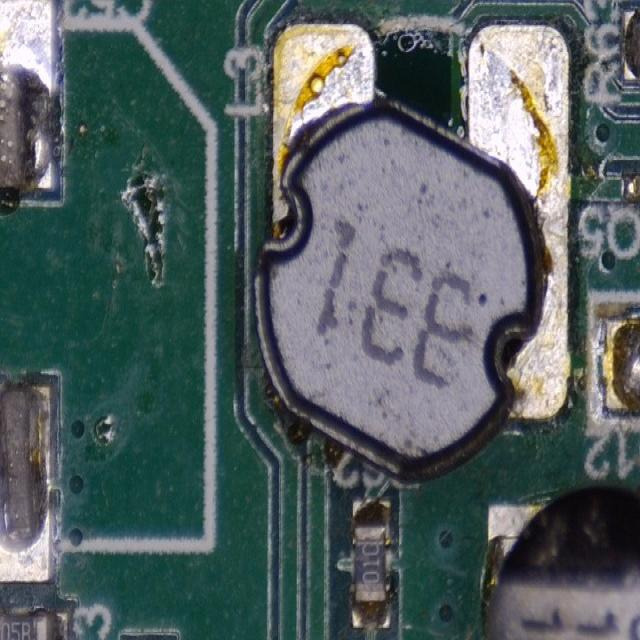Incorrect_installation: (253, 23, 572, 485)
